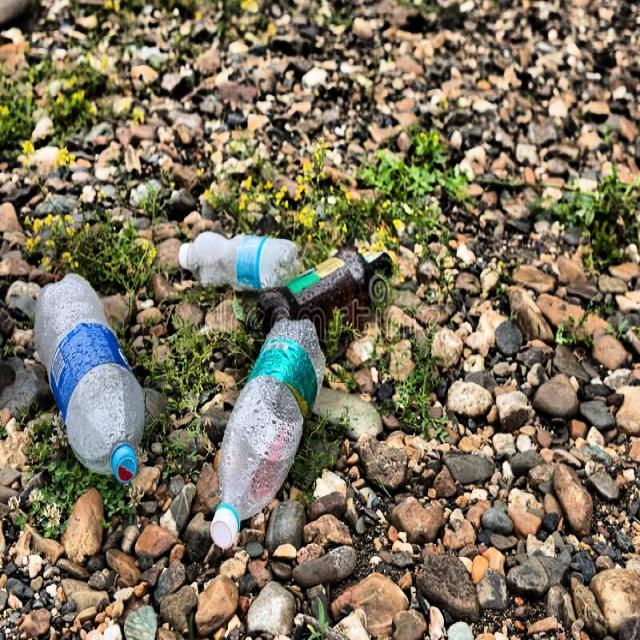Bottles: (206, 313, 332, 552), (31, 270, 147, 490)
